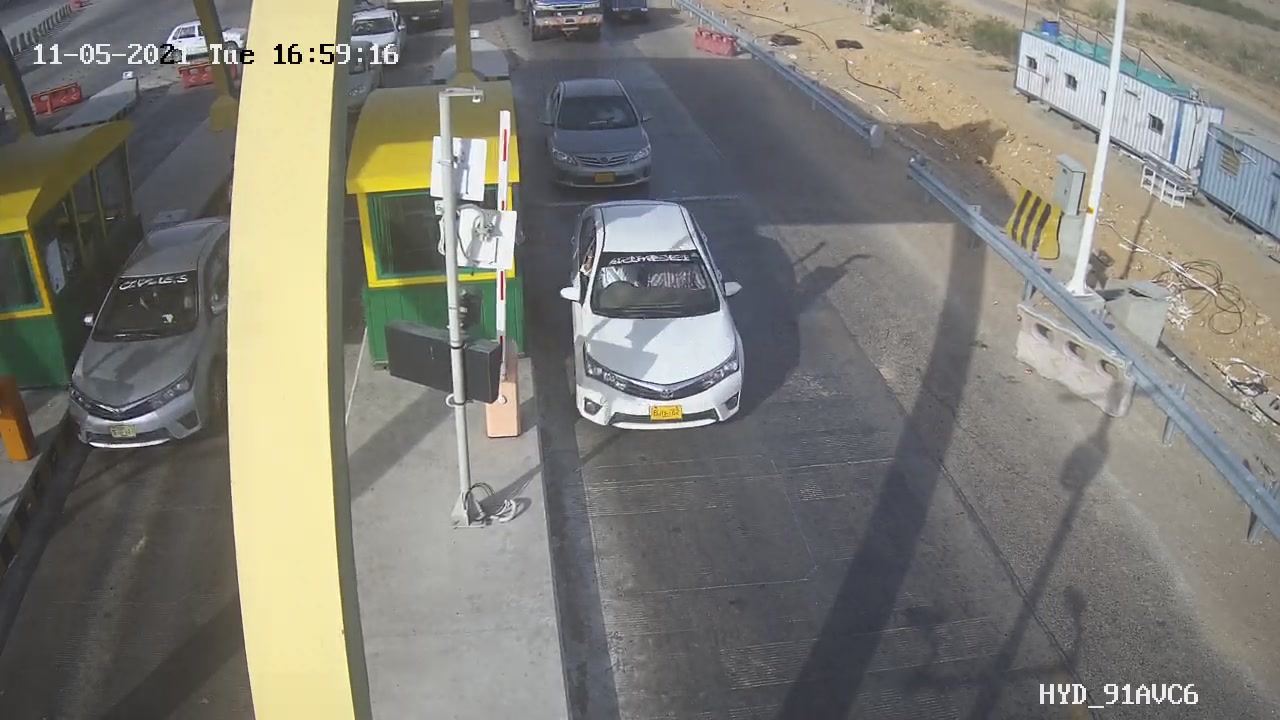F1: (543, 183, 770, 452), (524, 64, 678, 205)
